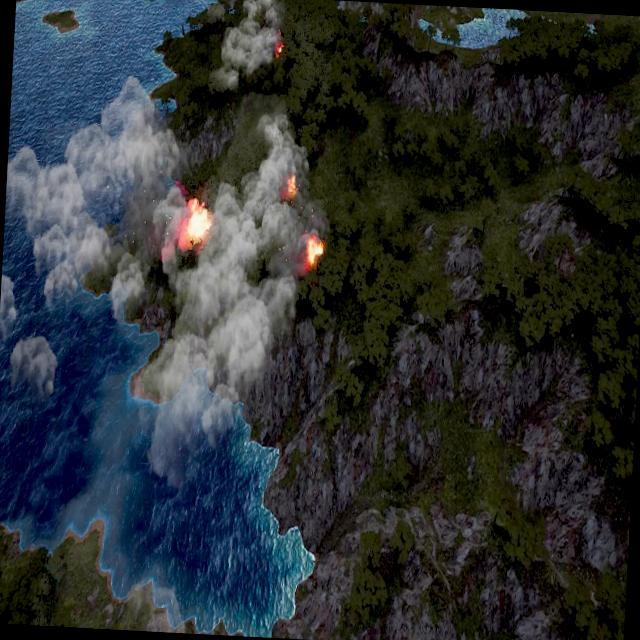fire: (179, 198, 212, 251), (306, 235, 326, 268), (285, 173, 298, 200), (276, 38, 286, 56)
smoke: (0, 64, 339, 485), (211, 0, 284, 91)
